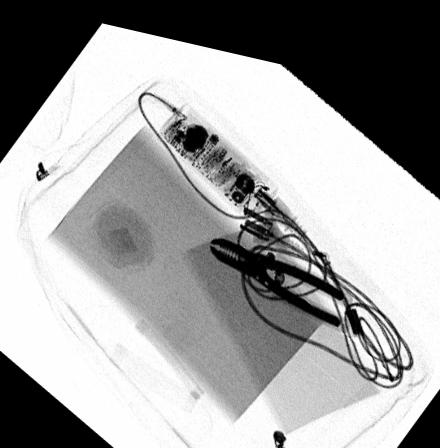Pliers: (207, 225, 346, 312)
